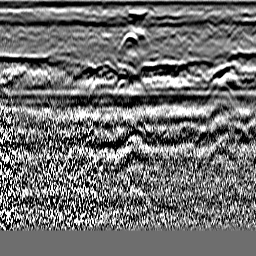cavity: (117, 30, 139, 53)
